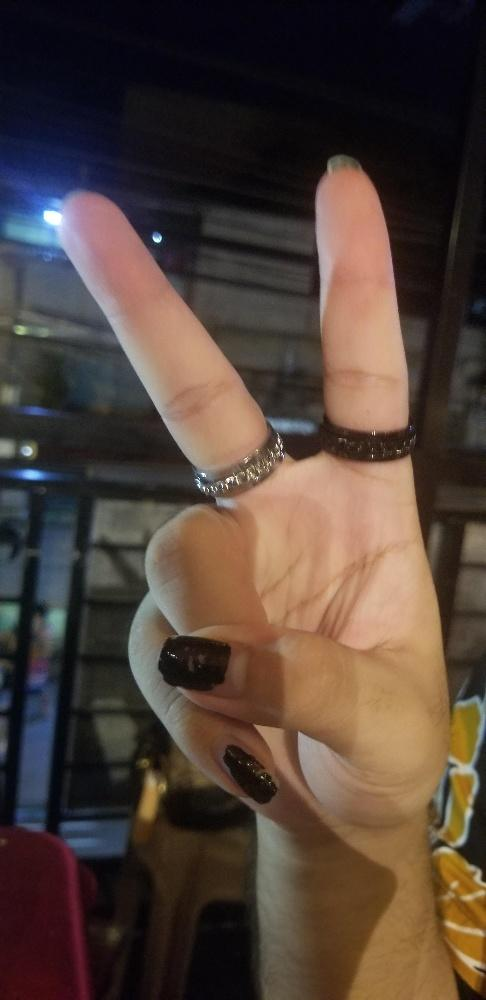v: (44, 170, 455, 823)
